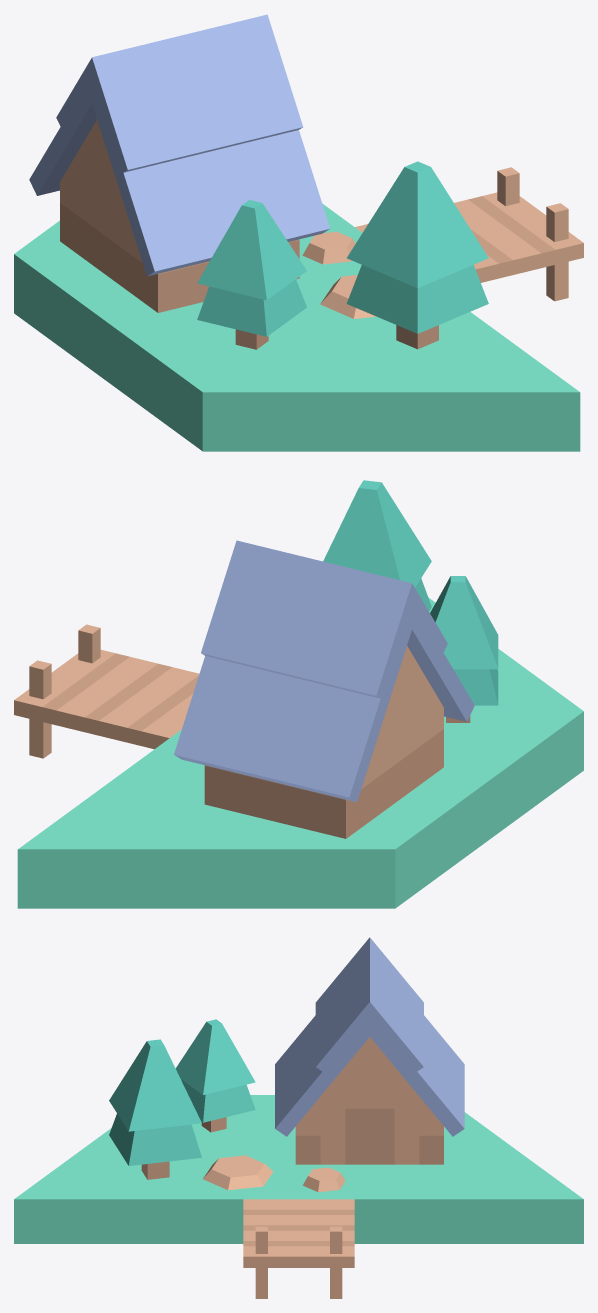
File: Fishing Hut.fbx
The picture shows the model from 3 angles, top to bottom: view 1: azimuth 30°, elevation 25°; view 2: azimuth 150°, elevation 25°; view 3: azimuth 270°, elevation 25°; orthographic projection. The views are drawn at different scales.
Visible parts, largest first — view 1: building_dock, building, tree.001, tree, dock, path, path.001; view 2: building_dock, building, dock, tree.001, tree; view 3: building_dock, building, dock, tree.001, tree, path.001, path.
Part boxes in pixels (x1=…): building_dock: x1=14, y1=203, x2=580, y2=451; building: x1=29, y1=14, x2=330, y2=312; tree.001: x1=346, y1=161, x2=488, y2=349; tree: x1=197, y1=200, x2=306, y2=349; dock: x1=355, y1=167, x2=583, y2=301; path: x1=302, y1=231, x2=355, y2=264; path.001: x1=320, y1=275, x2=375, y2=318; building_dock: x1=17, y1=597, x2=583, y2=908; building: x1=174, y1=540, x2=474, y2=838; dock: x1=14, y1=624, x2=199, y2=758; tree.001: x1=323, y1=480, x2=431, y2=610; tree: x1=430, y1=576, x2=498, y2=722; building_dock: x1=14, y1=1095, x2=583, y2=1243; building: x1=275, y1=937, x2=464, y2=1164; dock: x1=243, y1=1199, x2=354, y2=1298; tree.001: x1=109, y1=1039, x2=201, y2=1179; tree: x1=175, y1=1019, x2=255, y2=1132; path.001: x1=203, y1=1155, x2=273, y2=1190; path: x1=302, y1=1167, x2=345, y2=1192.
Bounding box in the file's own units: 115 × 47.81 × 77.5.
